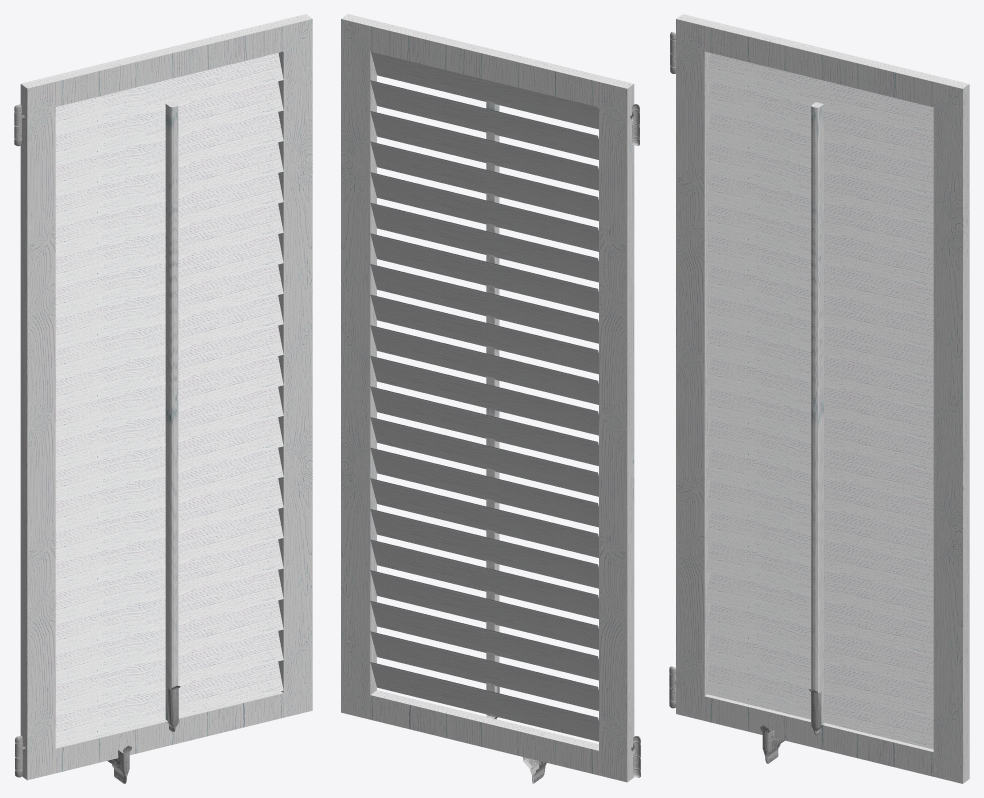
File: FensterladenRechts.glb
3 views of the same model, side by side, from view 1: azimuth 30°, elevation 25°; view 2: azimuth 150°, elevation 25°; view 3: azimuth 330°, elevation 25° (orthographic).
Parts seen in each view (by area): view 1: Plane.001, Cube.006, Cube.010; view 2: Plane.001, Cube.006, Cube.010; view 3: Plane.001, Cube.006, Cube.010.
Part boxes in pixels (left/top/right/bottom): Plane.001: left=55, top=53, right=283, bottom=745; Cube.006: left=20, top=14, right=312, bottom=780; Cube.010: left=165, top=101, right=178, bottom=720; Plane.001: left=370, top=52, right=598, bottom=741; Cube.006: left=341, top=14, right=634, bottom=782; Cube.010: left=486, top=100, right=499, bottom=716; Plane.001: left=705, top=53, right=933, bottom=749; Cube.006: left=676, top=14, right=969, bottom=783; Cube.010: left=811, top=102, right=823, bottom=724.
Size of the model in its own units: 1.68 by 3.9 by 0.1342.
Materials: 2 (2 with a texture image).
